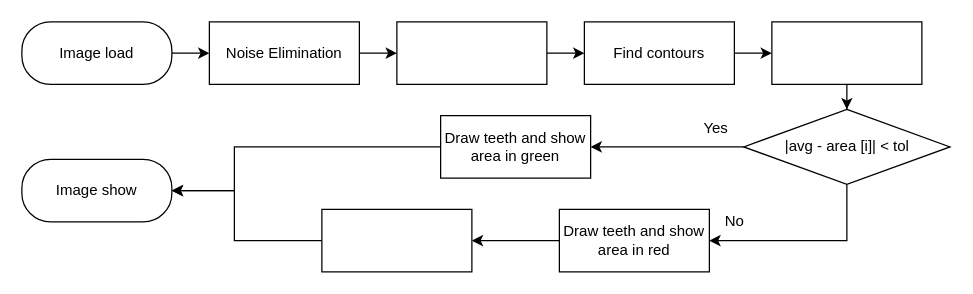
The diagram is 973 pixels wide and 294 high, and some of its shapes have lost their labels. Here are the shapes that lost their labels. From the top down, the centre of each, then its label:
At (471,52): "Extract inner circle leaving teethes only".
At (846,52): "Calculate area average".
At (396,240): "Encircle the teeth in src image".
